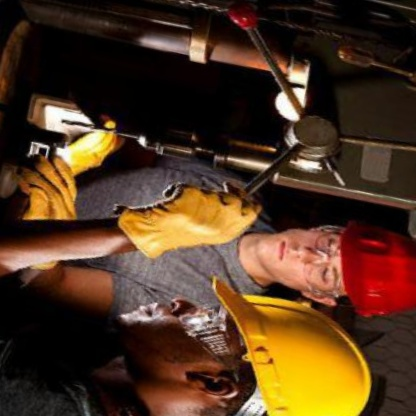red: (323, 213, 416, 336)
yellow: (175, 273, 392, 416)
